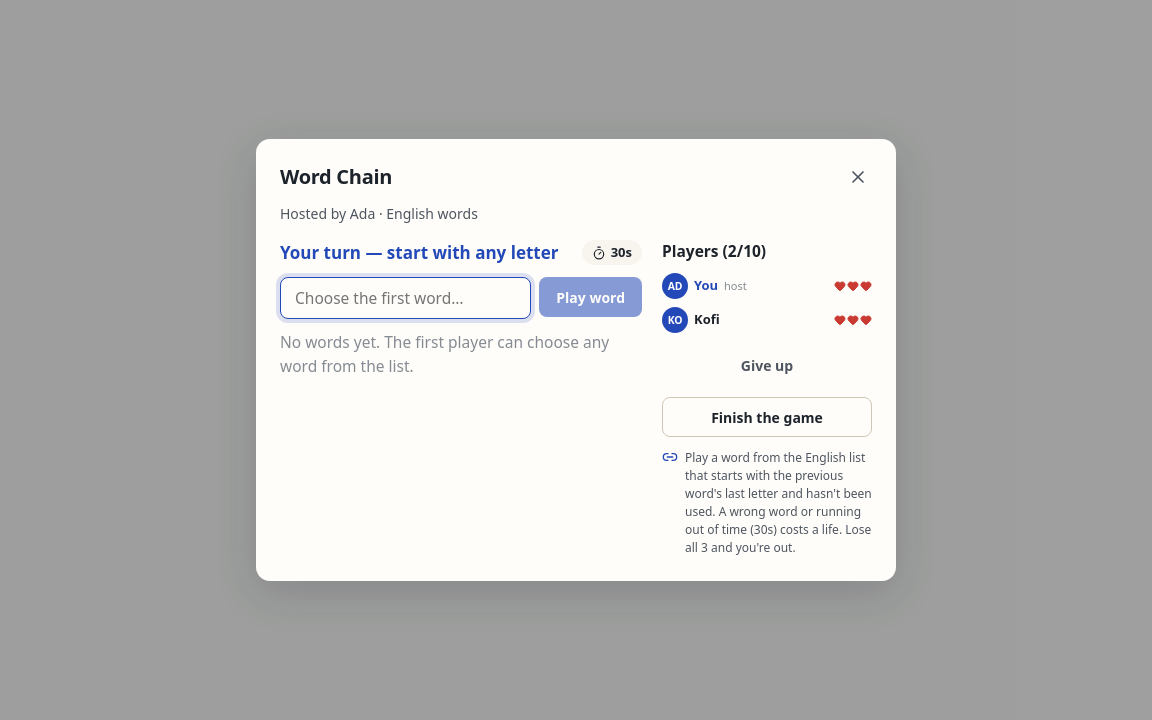
Test: Word Chain › shows the turn timer, lives, and a lost life after a wrong word
Expected: the element showing "30s" is shown, [582,240,642,265]
Expected: the number of elements named "3 of 3 lives left" is 2, [834,280,872,292]; [834,314,872,326]
Type "blorp" into the field named "Your word".
click(406, 298); type("blorp")  # box [280,277,531,319]
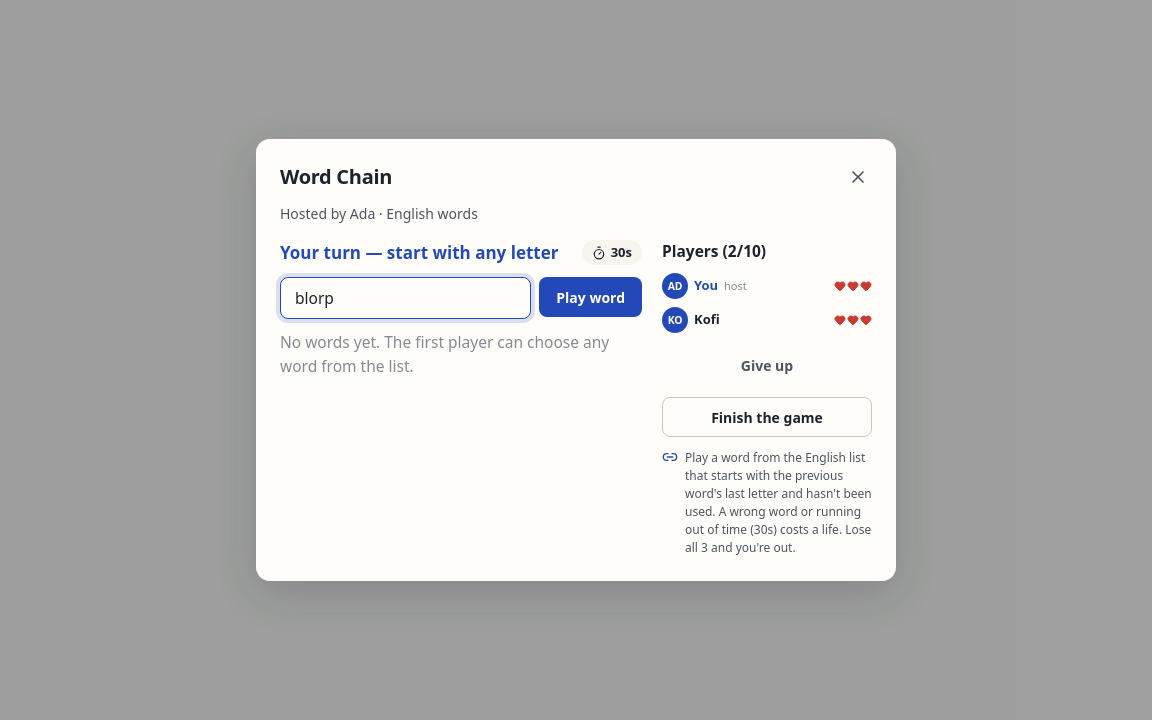
Click the button "Play word".
click(591, 297)  # box [539,277,642,317]
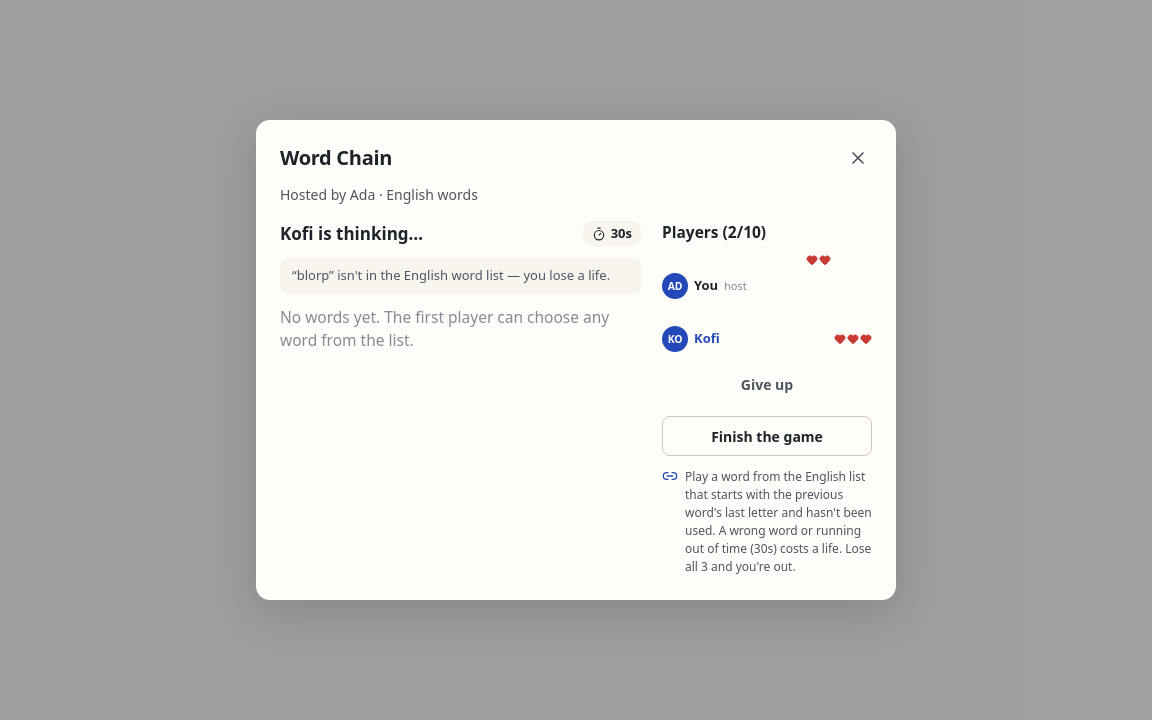
Now the text "“blorp” isn't in the English word list — you lose a life." is shown, box [280,258,642,294]
Now the element named "2 of 3 lives left" is shown, box [806,254,872,318]
